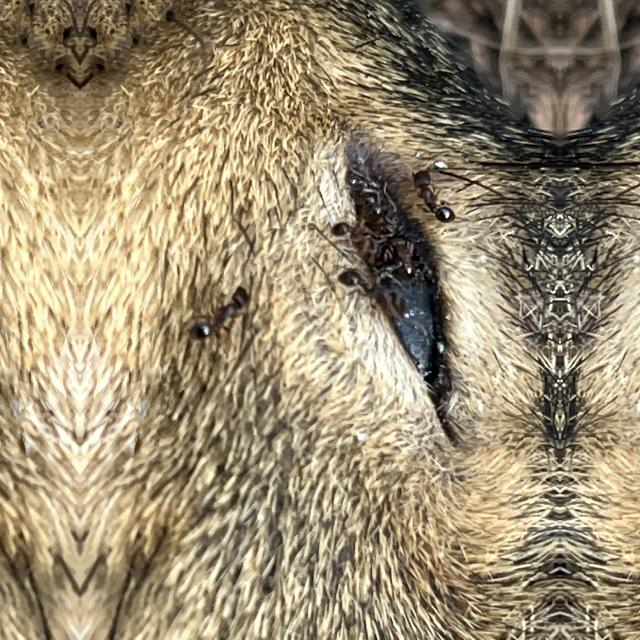Tetramorium: (319, 268, 431, 324), (188, 268, 258, 350), (392, 160, 456, 228), (346, 175, 410, 238), (329, 205, 393, 262), (382, 234, 422, 280)
